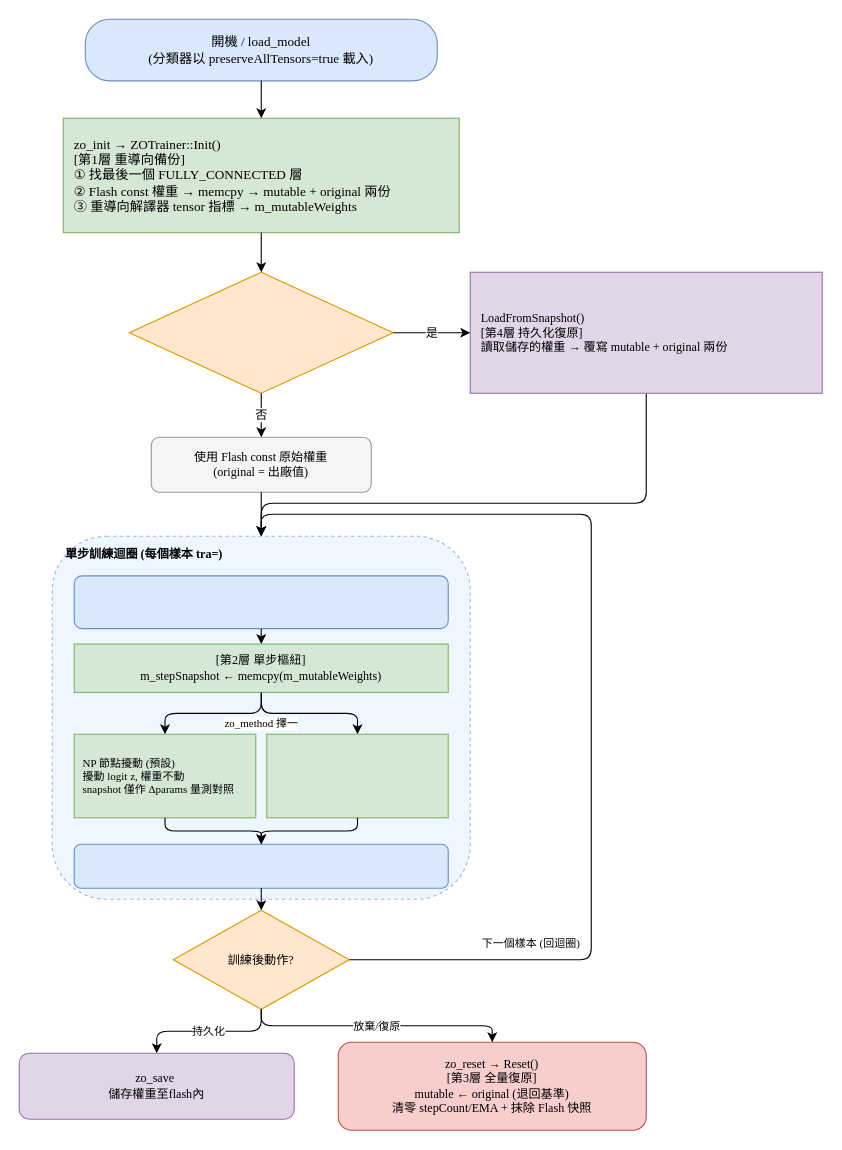
Image size: 842x1150. Some labels were removed from this diagram. Each missing label, with the box of its shape:
CacheFeature() 跑一次 NPU+CPU 推論, 快取 FC 輸入特徵 a: (73, 575, 448, 629)
Flash 尾端 4 頁 有有效快照? (校驗 OK): (128, 271, 393, 393)
WP 權重擾動 每次從 snapshot ±1 LSB 改寫 Q 次後 mutable ← snapshot 還原樞紐再套用平均梯度: (266, 733, 448, 818)
套用更新: 只改 FC 層 INT8 權重 / INT32 偏置 (clamp 至 [-128,127]): (73, 843, 448, 888)
